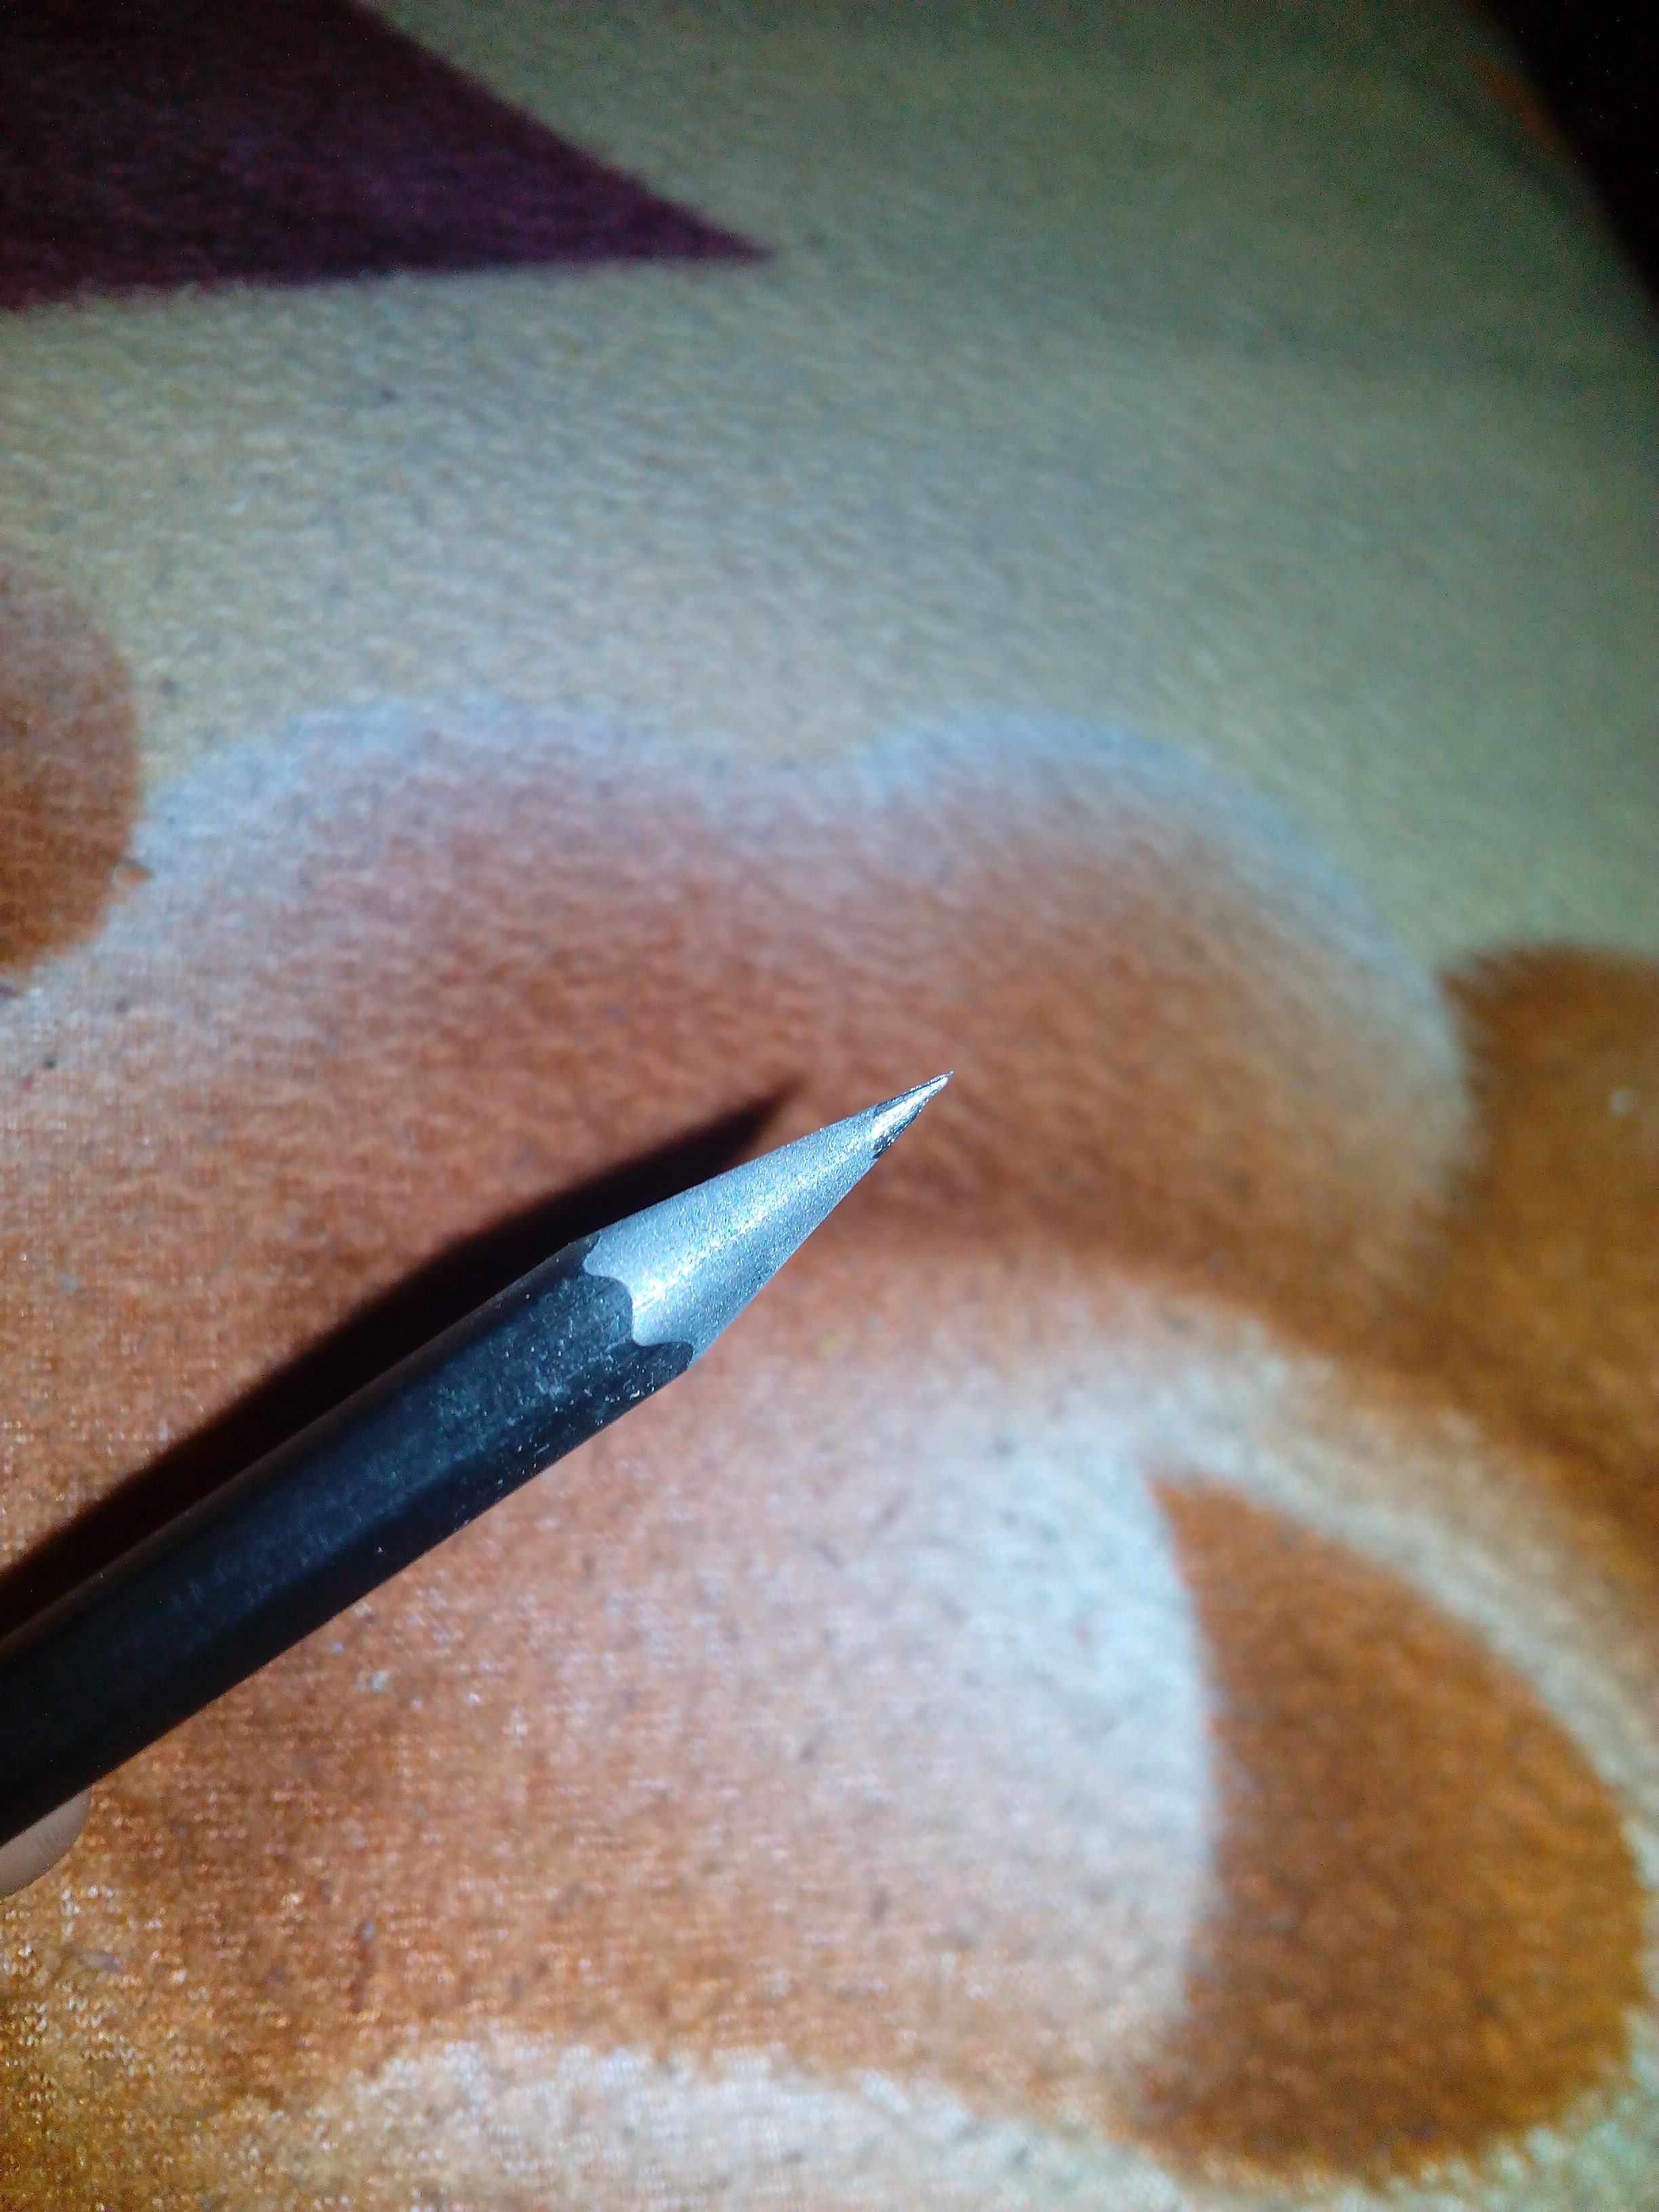pen_tip: (462, 995, 1072, 1505)
